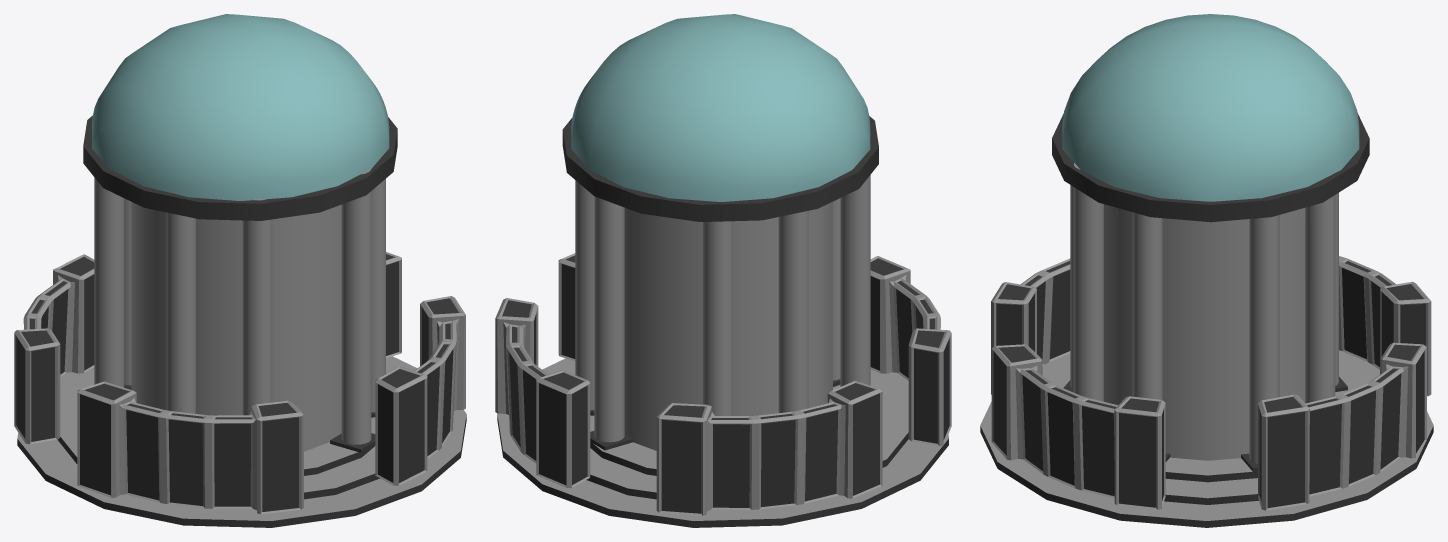
File: Gazebo Structure v002.FBX
The picture shows the model from 3 angles, left to right: view 1: azimuth 30°, elevation 25°; view 2: azimuth 150°, elevation 25°; view 3: azimuth 270°, elevation 25°; orthographic projection.
Parts seen in each view (by area): view 1: Gazebo Top, Crystal Barrier, Gazebo Wall002, Gazebo Wall001, Gazebo Stairs, Gazebo Wall003, Gazebo Pillar005, Gazebo Top Lip, Gazebo Pillar008, Gazebo Pillar003, Gazebo Pillar004, Gazebo Stairs001 (+4 smaller); view 2: Gazebo Top, Crystal Barrier, Gazebo Wall003, Gazebo Wall, Gazebo Wall002, Gazebo Stairs, Gazebo Top Lip, Gazebo Pillar002, Gazebo Pillar008, Gazebo Pillar003, Gazebo Pillar007, Gazebo Pillar001 (+4 smaller); view 3: Gazebo Top, Crystal Barrier, Gazebo Wall001, Gazebo Wall, Gazebo Stairs, Gazebo Top Lip, Gazebo Wall003, Gazebo Pillar005, Gazebo Pillar001, Gazebo Wall002, Gazebo Pillar002, Gazebo Pillar006 (+4 smaller).
Part boxes in pixels (x1,y1,x2,y2): Gazebo Top: [92, 14, 389, 200]; Crystal Barrier: [131, 202, 341, 451]; Gazebo Wall002: [77, 381, 303, 514]; Gazebo Wall001: [375, 296, 465, 485]; Gazebo Stairs: [17, 356, 466, 527]; Gazebo Wall003: [14, 254, 94, 444]; Gazebo Pillar005: [341, 169, 371, 444]; Gazebo Top Lip: [83, 115, 397, 220]; Gazebo Pillar008: [94, 177, 124, 387]; Gazebo Pillar003: [166, 192, 195, 413]; Gazebo Pillar004: [242, 198, 272, 415]; Gazebo Stairs001: [57, 369, 389, 499]; Gazebo Top: [571, 14, 870, 201]; Crystal Barrier: [624, 201, 832, 450]; Gazebo Wall003: [656, 380, 882, 515]; Gazebo Wall: [495, 298, 590, 487]; Gazebo Wall002: [870, 256, 951, 446]; Gazebo Stairs: [497, 358, 948, 527]; Gazebo Top Lip: [562, 116, 878, 221]; Gazebo Pillar002: [594, 196, 624, 442]; Gazebo Pillar008: [778, 211, 808, 413]; Gazebo Pillar003: [840, 134, 870, 386]; Gazebo Pillar007: [702, 221, 732, 415]; Gazebo Pillar001: [575, 180, 594, 410]; Gazebo Top: [1062, 14, 1359, 201]; Crystal Barrier: [1104, 204, 1304, 460]; Gazebo Wall001: [991, 344, 1165, 509]; Gazebo Wall: [1258, 342, 1426, 510]; Gazebo Stairs: [980, 350, 1433, 527]; Gazebo Top Lip: [1052, 113, 1369, 222]; Gazebo Wall003: [1339, 256, 1431, 396]; Gazebo Pillar005: [1073, 163, 1103, 401]; Gazebo Pillar001: [1249, 215, 1279, 463]; Gazebo Wall002: [991, 258, 1070, 394]; Gazebo Pillar002: [1305, 195, 1335, 403]; Gazebo Pillar006: [1132, 212, 1162, 399].
Size of the model in its own units: 6 by 5.83 by 6.
